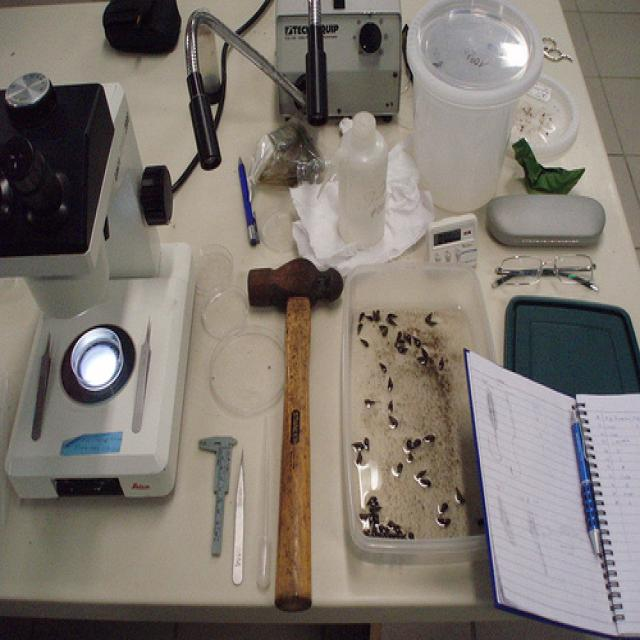hammer: (236, 239, 351, 613)
